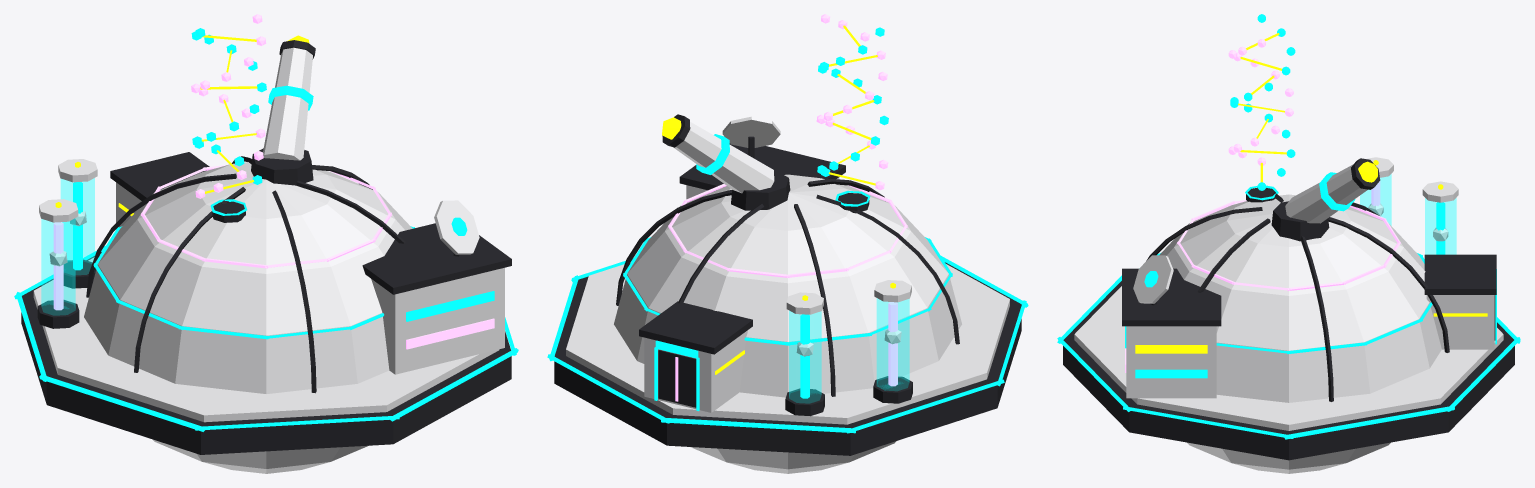
File: ResearchLab.fbx
3 renders of one model, left to right at view 1: azimuth 30°, elevation 25°; view 2: azimuth 150°, elevation 25°; view 3: azimuth 270°, elevation 25°, orthographic. The views are drawn at different scales.
Parts seen in each view (by area): view 1: Lab_Dome, Lab_Platform, Lab_PlatformTop, Lab_Annex, Lab_AnnexRoof, Lab_Scope, Lab_PlatformGlow, Lab_TubeGlass1, Lab_EntranceRoof, Lab_TubeGlass0, Lab_Dish, Lab_DomeRing1 (+16 smaller); view 2: Lab_Dome, Lab_PlatformTop, Lab_Platform, Lab_PlatformGlow, Lab_EntranceRoof, Lab_Entrance, Lab_Scope, Lab_TubeGlass1, Lab_TubeGlass0, Lab_AnnexRoof, Lab_Door, Lab_DomeRing1 (+13 smaller); view 3: Lab_Dome, Lab_Platform, Lab_PlatformTop, Lab_Annex, Lab_AnnexRoof, Lab_Entrance, Lab_EntranceRoof, Lab_PlatformGlow, Lab_Scope, Lab_TubeGlass0, Lab_DomeRing1, Lab_Dish (+10 smaller).
Boxes of the visible parts, x1,y1,x2,y2 form: Lab_Dome: [84, 162, 412, 473]; Lab_Platform: [21, 252, 511, 454]; Lab_PlatformTop: [33, 254, 499, 422]; Lab_Annex: [371, 267, 504, 374]; Lab_AnnexRoof: [362, 223, 511, 294]; Lab_Scope: [263, 47, 312, 160]; Lab_PlatformGlow: [14, 245, 518, 431]; Lab_TubeGlass1: [41, 218, 75, 314]; Lab_EntranceRoof: [110, 152, 209, 200]; Lab_TubeGlass0: [61, 178, 94, 274]; Lab_Dish: [434, 200, 479, 254]; Lab_DomeRing1: [141, 165, 391, 268]; Lab_Dome: [614, 174, 961, 473]; Lab_PlatformTop: [566, 262, 1009, 424]; Lab_Platform: [554, 262, 1021, 455]; Lab_PlatformGlow: [547, 256, 1028, 433]; Lab_EntranceRoof: [639, 301, 752, 354]; Lab_Entrance: [644, 330, 747, 412]; Lab_Scope: [673, 122, 774, 193]; Lab_TubeGlass1: [877, 298, 909, 390]; Lab_TubeGlass0: [789, 310, 821, 402]; Lab_AnnexRoof: [679, 143, 845, 190]; Lab_Door: [658, 350, 696, 407]; Lab_DomeRing1: [668, 184, 907, 277]; Lab_Dome: [1159, 194, 1441, 473]; Lab_Platform: [1063, 281, 1514, 460]; Lab_PlatformTop: [1074, 286, 1503, 430]; Lab_Annex: [1126, 326, 1216, 398]; Lab_AnnexRoof: [1122, 268, 1221, 326]; Lab_Entrance: [1426, 295, 1494, 349]; Lab_EntranceRoof: [1424, 254, 1496, 294]; Lab_PlatformGlow: [1057, 275, 1520, 439]; Lab_Scope: [1285, 164, 1367, 223]; Lab_TubeGlass0: [1425, 198, 1456, 254]; Lab_DomeRing1: [1177, 200, 1400, 290]; Lab_Dish: [1133, 255, 1173, 303].
Size of the model in its own units: 2.05 by 1.99 by 2.05.
